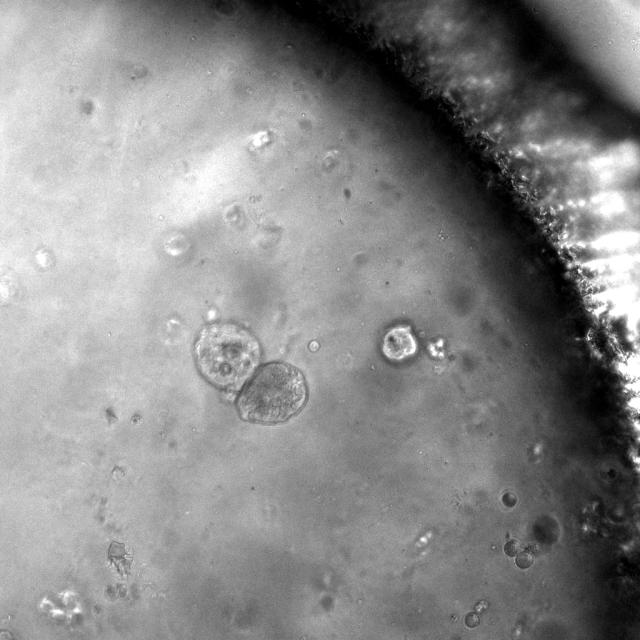organoid: (194, 322, 308, 424), (381, 321, 448, 364), (503, 538, 539, 569), (532, 515, 559, 545), (501, 490, 517, 508), (464, 612, 479, 627)
